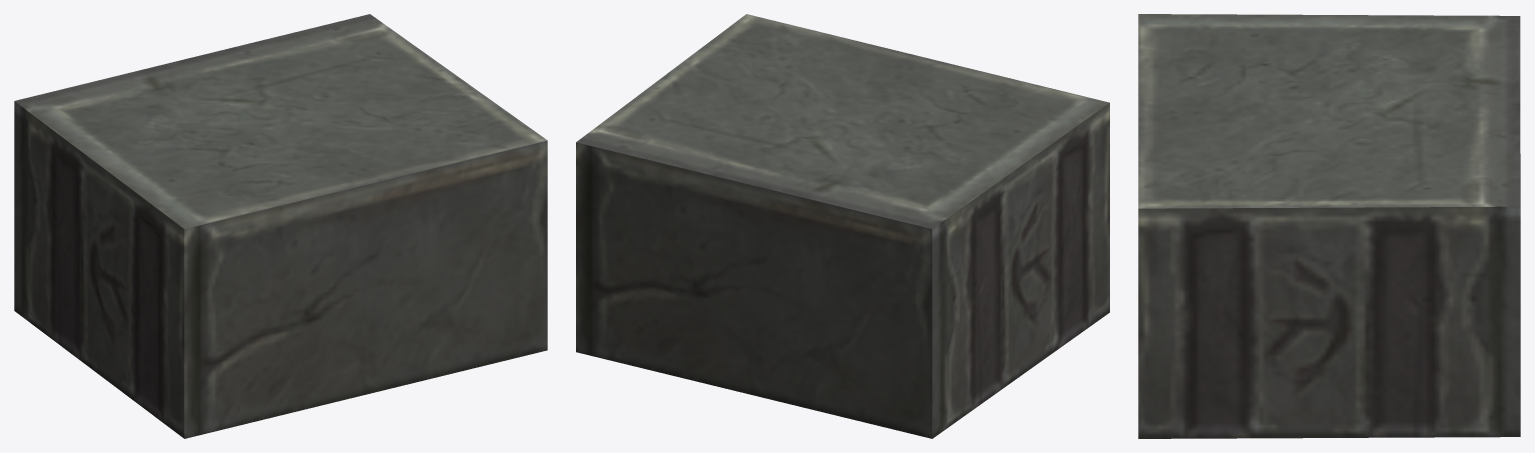
Rendered from F_shizhu004.fbx.
3 views of the same model, side by side, from view 1: azimuth 30°, elevation 25°; view 2: azimuth 150°, elevation 25°; view 3: azimuth 270°, elevation 25° (orthographic). The views are drawn at different scales.
Parts seen in each view (by area): view 1: F_shizhu004; view 2: F_shizhu004; view 3: F_shizhu004.
Boxes of the visible parts, left/top/right/bottom form: F_shizhu004: left=14, top=14, right=547, bottom=438; F_shizhu004: left=576, top=14, right=1109, bottom=438; F_shizhu004: left=1138, top=14, right=1520, bottom=438.
Size of the model in its own units: 72.83 by 40.19 by 60.44.
